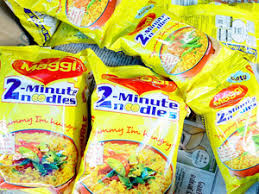maggi: (9, 53, 171, 189)
